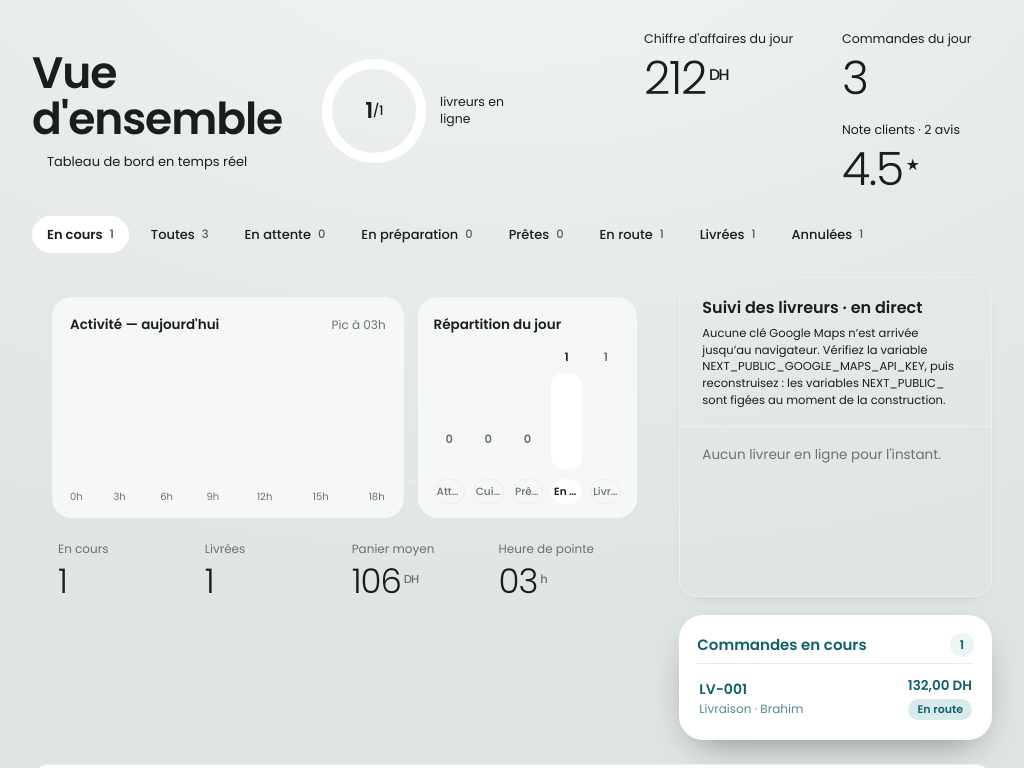
OverviewScreen › affiche un message quand un filtre est vide
Click the button "En attente 0" at (285, 234), box [230,216,339,253]
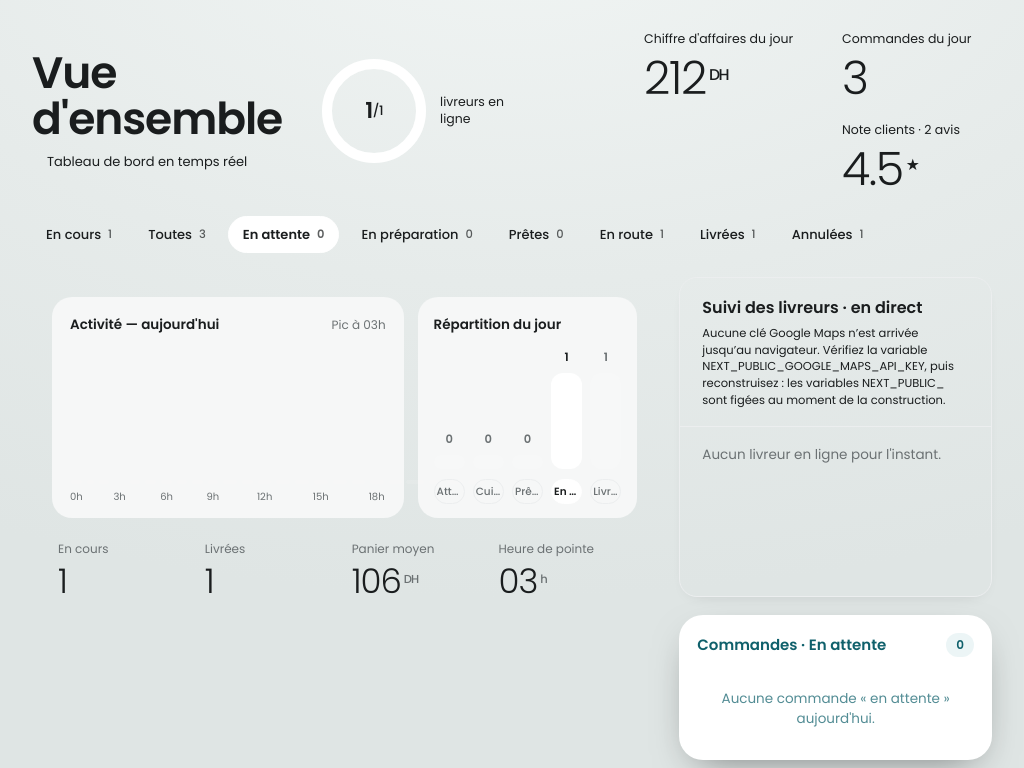
Expected: the text "Aucune commande « en attente » aujourd'hui." is shown, [722,689,950,728]
